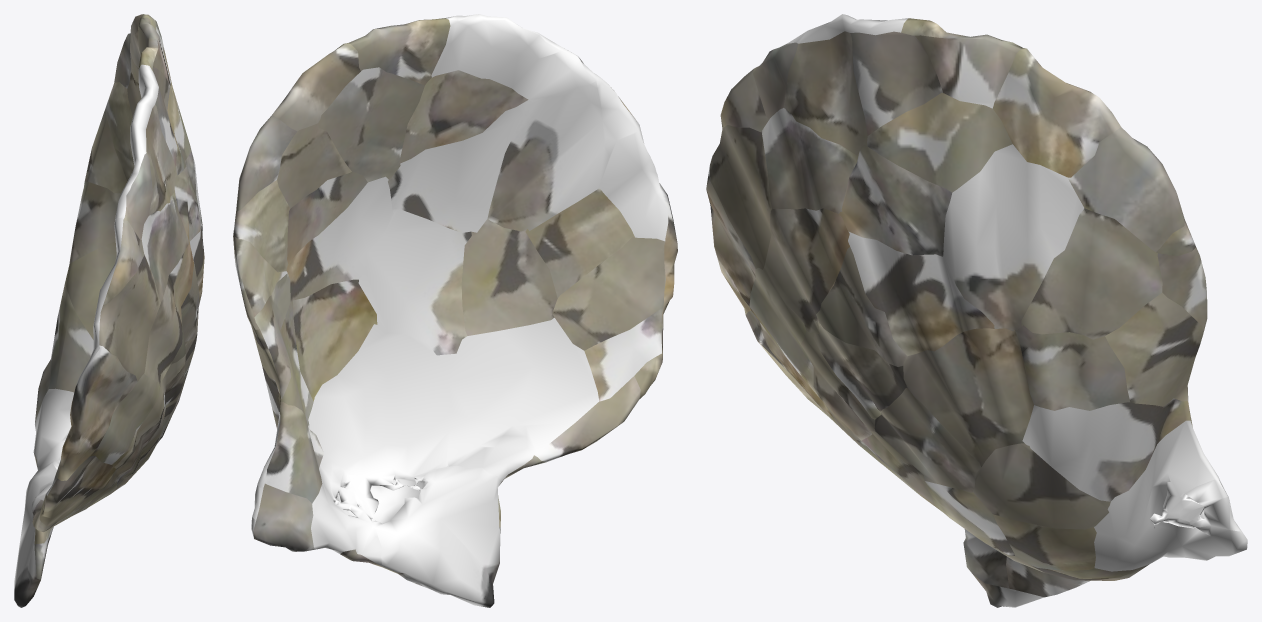
The model's file is scallop-01.glb.
3 renders of one model, left to right at view 1: azimuth 30°, elevation 25°; view 2: azimuth 150°, elevation 25°; view 3: azimuth 270°, elevation 25°, orthographic. The views are drawn at different scales.
Visible parts, largest first — view 1: scallop-01; view 2: scallop-01; view 3: scallop-01.
Boxes of the visible parts, box(x1,y1,x2,y2) form: scallop-01: box(14, 14, 204, 607); scallop-01: box(233, 14, 677, 607); scallop-01: box(706, 14, 1247, 607).
Size of the model in its own units: 0.0779 by 0.1567 by 0.1198.
1 material, 1 textured.
